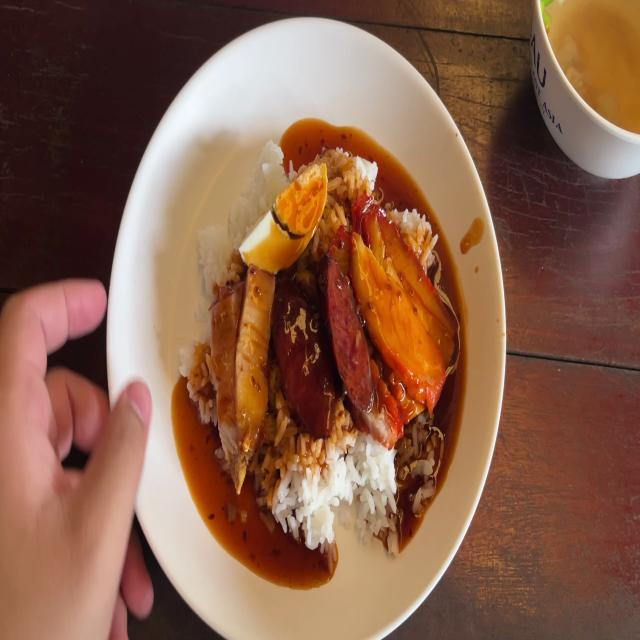01boiled_egg: (237, 160, 326, 270)
01chainese_sausage: (277, 259, 367, 419), (278, 269, 326, 432), (325, 264, 373, 412)
01crispy_pork: (207, 273, 277, 478), (208, 269, 240, 463), (243, 264, 269, 466)
01red_pork: (363, 211, 448, 402)
01red_pork_and_crispy_pork: (183, 131, 458, 554)
01rice: (271, 438, 388, 557), (234, 144, 282, 208)
